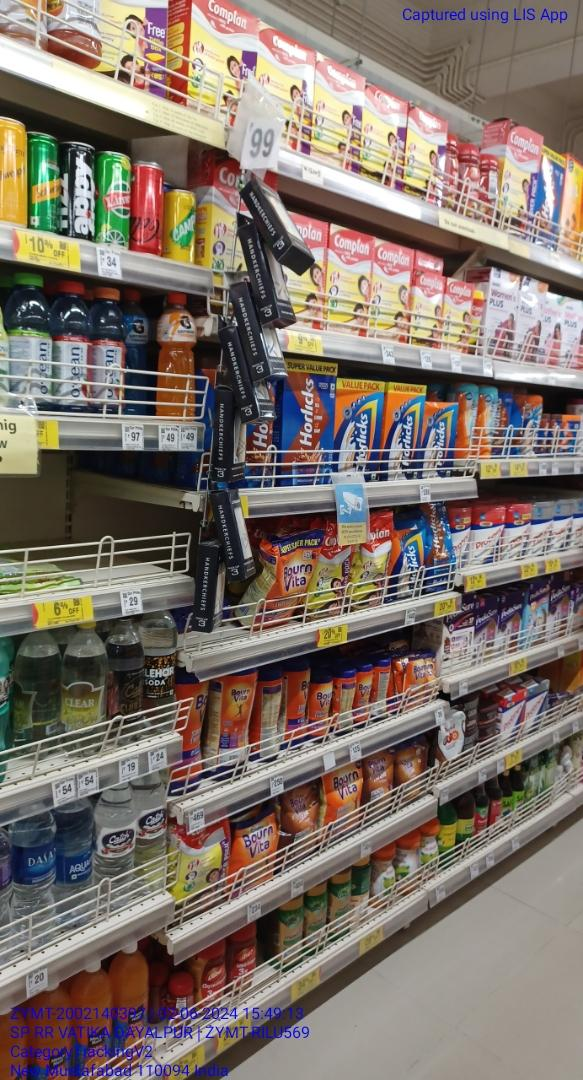BOURN_VITA_FIVE_STAR_MAGIC_500_G_POUCH: (395, 736, 428, 806)
BOURN_VITA_FIVE_STAR_MAGIC_750_G_POUCH: (275, 775, 321, 874), (363, 746, 393, 827)
HORLICKS_LITE_REGULAR_MALT_500_GM_JAR: (458, 379, 478, 458), (480, 383, 497, 457)
HORLICK_CLASSIC_MALT_500_G_PACK: (419, 401, 456, 478)
PEDIASURE_CHOCOLATE_500_G_PACK: (474, 596, 498, 665), (500, 589, 523, 654), (550, 579, 572, 639)
PROTINEX_CHOCOLATE_400_G_JAR: (470, 504, 504, 561)
PROTINEX_ORIGINAL_400_G_JAR: (530, 504, 551, 555), (554, 501, 574, 550)
